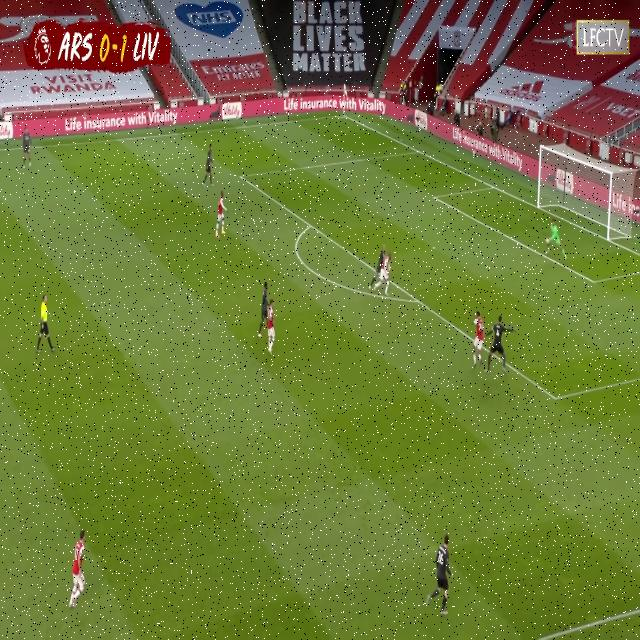GoalKeeper: (544, 220, 568, 262)
TEAM 1: (71, 523, 88, 609), (472, 310, 486, 370), (216, 191, 229, 240), (382, 243, 393, 295), (266, 299, 277, 351)
TEAM 2: (423, 532, 452, 617), (480, 313, 516, 374), (370, 238, 386, 288), (257, 280, 268, 344), (203, 145, 216, 187), (22, 129, 32, 166)
